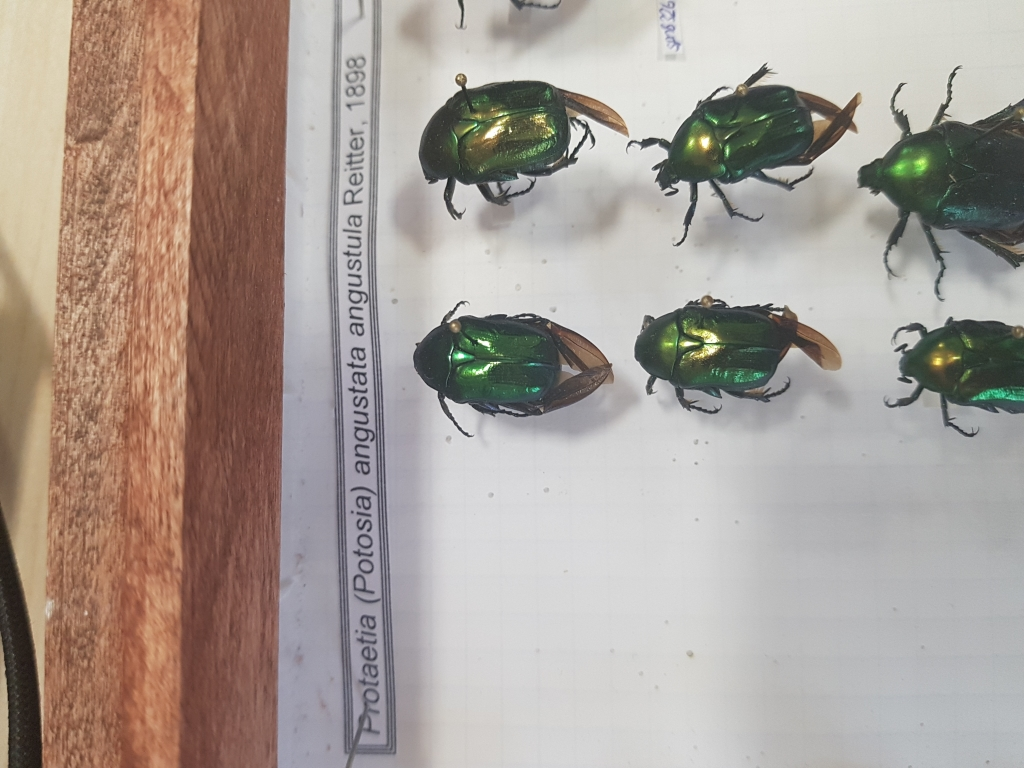Protaetia_angustata_angustata: (867, 56, 1024, 284), (410, 74, 629, 218), (641, 54, 820, 220), (398, 297, 572, 447), (631, 292, 800, 413), (881, 308, 1024, 444)
